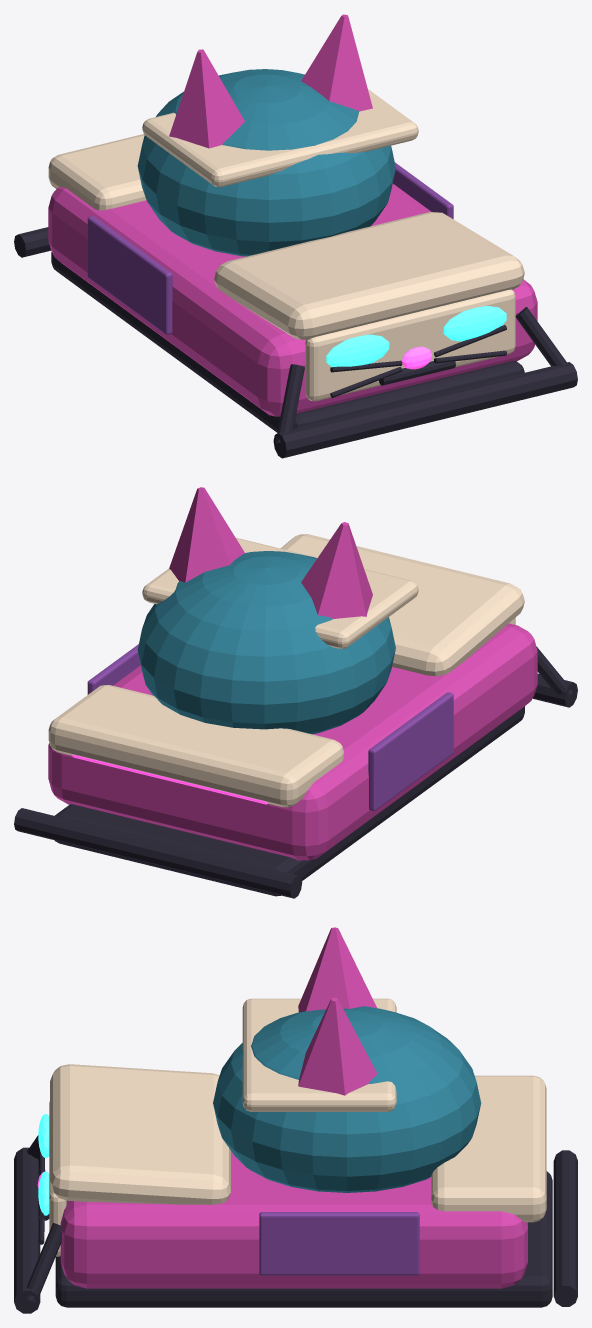
File: mighty-meowster-body-v1.glb
3 renders of one model, top to bottom at view 1: azimuth 30°, elevation 25°; view 2: azimuth 150°, elevation 25°; view 3: azimuth 270°, elevation 25°, orthographic.
Parts seen in each view (by area): view 1: MeowsterCab_CyanGlass, HoodDamageShell, MeowsterBody_DamageShell, MeowsterCreamBodyAccents, MeowsterBashBarsAndWhiskers, MeowsterCatEarSilhouette, MeowsterBellyArmor, DamagePanel_Left, MeowsterCatFaceLights, DamagePanel_Right, RearBashBar; view 2: MeowsterCab_CyanGlass, MeowsterBody_DamageShell, MeowsterCreamBodyAccents, HoodDamageShell, MeowsterCatEarSilhouette, MeowsterBellyArmor, RearBashBar, DamagePanel_Left, MeowsterBashBarsAndWhiskers, DamagePanel_Right, RearRoseLight; view 3: MeowsterBody_DamageShell, MeowsterCab_CyanGlass, HoodDamageShell, MeowsterCreamBodyAccents, MeowsterBellyArmor, DamagePanel_Right, MeowsterCatEarSilhouette, MeowsterBashBarsAndWhiskers, RearBashBar, MeowsterCatFaceLights.
Boxes of the visible parts, x1,y1,x2,y2 form: MeowsterCab_CyanGlass: [137, 69, 395, 256]; HoodDamageShell: [214, 212, 524, 339]; MeowsterBody_DamageShell: [48, 183, 537, 416]; MeowsterCreamBodyAccents: [48, 89, 515, 401]; MeowsterBashBarsAndWhiskers: [273, 307, 577, 458]; MeowsterCatEarSilhouette: [169, 14, 372, 148]; MeowsterBellyArmor: [51, 252, 524, 432]; DamagePanel_Left: [87, 216, 172, 334]; MeowsterCatFaceLights: [326, 306, 506, 369]; DamagePanel_Right: [393, 162, 453, 219]; RearBashBar: [14, 227, 50, 257]; MeowsterCab_CyanGlass: [137, 551, 395, 734]; MeowsterBody_DamageShell: [48, 623, 537, 860]; MeowsterCreamBodyAccents: [48, 537, 515, 807]; HoodDamageShell: [281, 534, 524, 676]; MeowsterCatEarSilhouette: [169, 487, 372, 618]; MeowsterBellyArmor: [54, 706, 524, 896]; RearBashBar: [14, 808, 302, 898]; DamagePanel_Left: [368, 692, 453, 811]; MeowsterBashBarsAndWhiskers: [533, 646, 577, 707]; DamagePanel_Right: [87, 644, 140, 694]; RearRoseLight: [72, 754, 268, 804]; MeowsterBody_DamageShell: [60, 1151, 527, 1288]; MeowsterCab_CyanGlass: [213, 1006, 481, 1192]; HoodDamageShell: [50, 1064, 230, 1204]; MeowsterCreamBodyAccents: [49, 998, 546, 1256]; MeowsterBellyArmor: [55, 1171, 552, 1307]; DamagePanel_Right: [259, 1212, 419, 1275]; MeowsterCatEarSilhouette: [298, 927, 377, 1095]; MeowsterBashBarsAndWhiskers: [14, 1135, 62, 1313]; RearBashBar: [553, 1150, 577, 1306]; MeowsterCatFaceLights: [37, 1114, 49, 1215].
Size of the model in its own units: 3.12 by 2.91 by 5.13.
